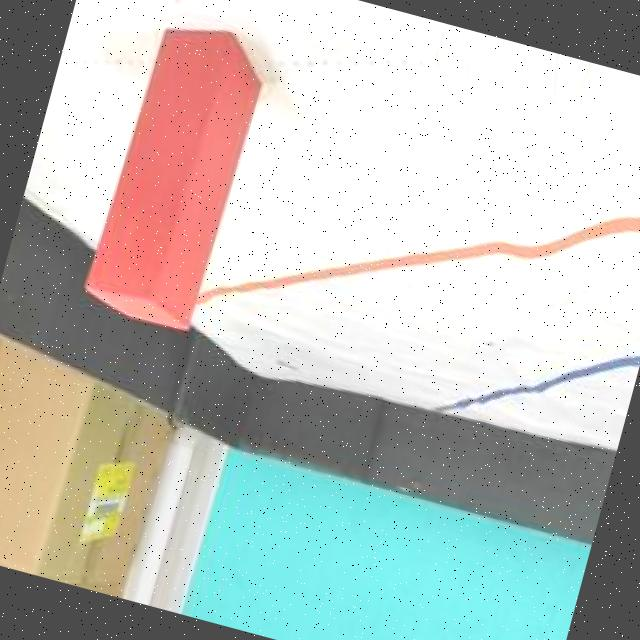redbox: (76, 9, 273, 335)
